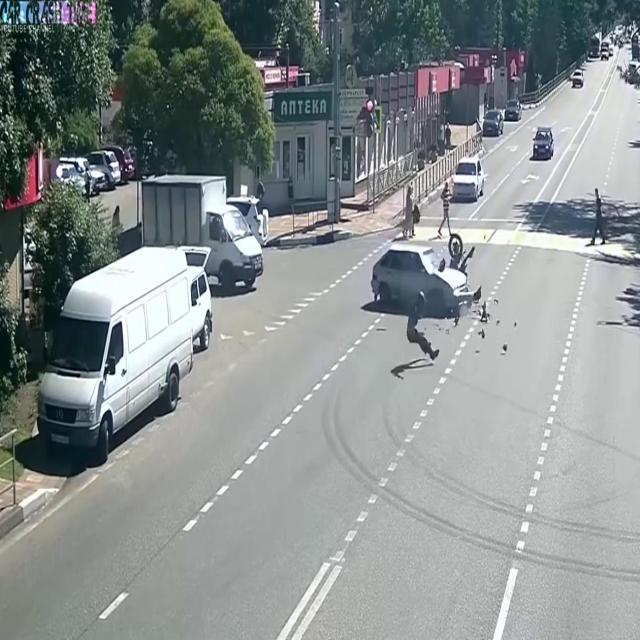accident: (356, 220, 501, 374)
non_accident: (19, 141, 271, 475)
